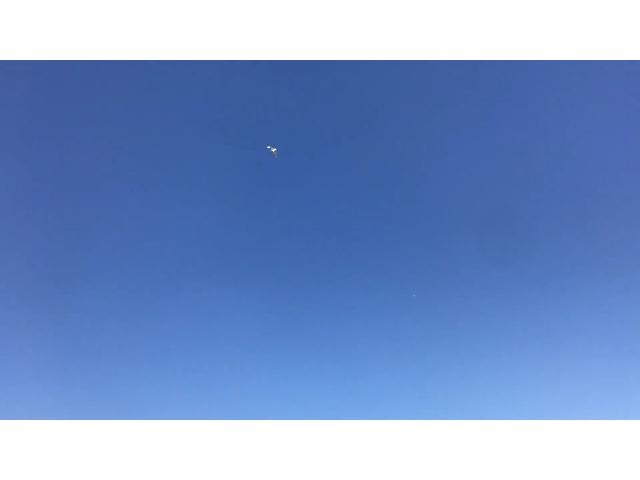Anti-Drone: (256, 132, 286, 168)
